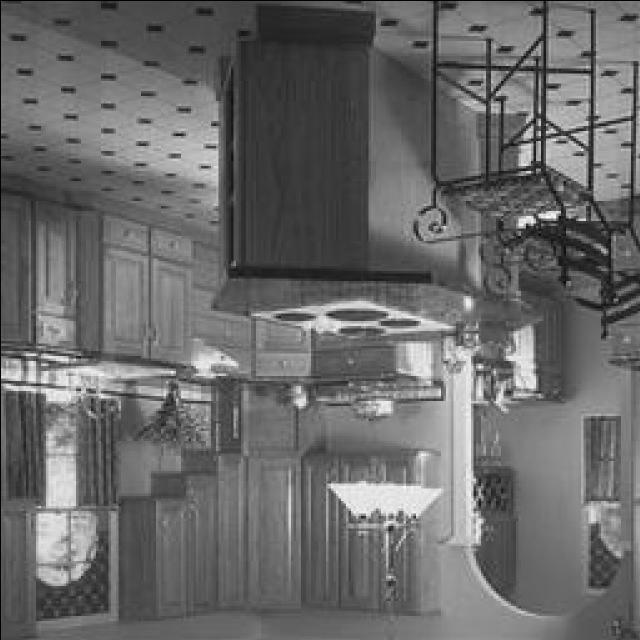chair: (410, 2, 615, 302)
